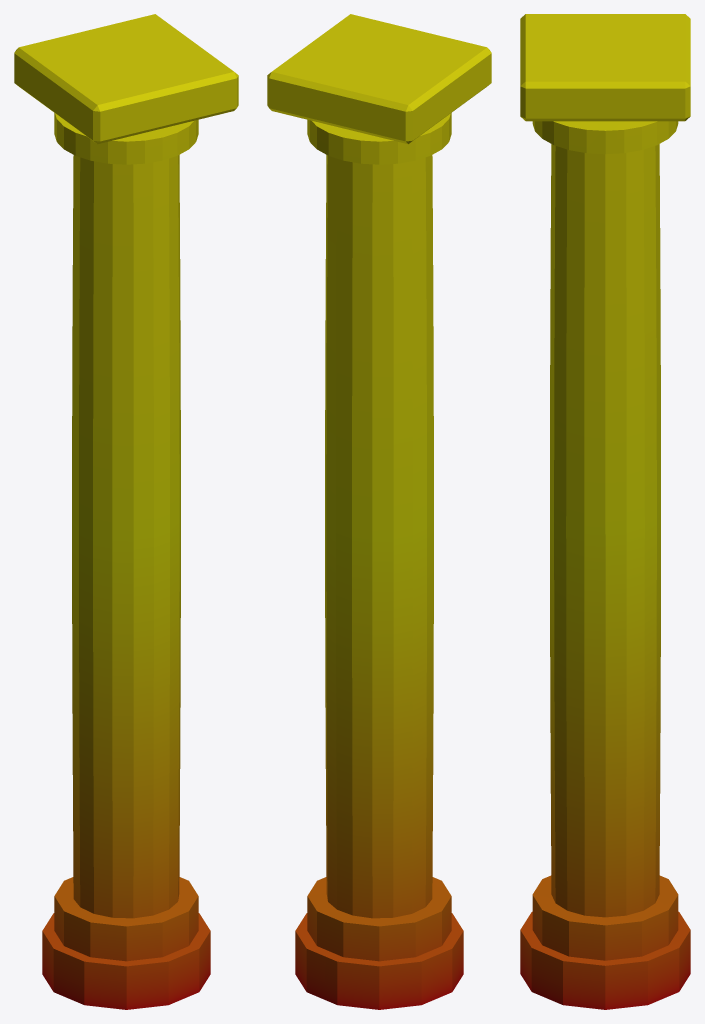
Rendered from column.glb.
3 renders of one model, left to right at view 1: azimuth 30°, elevation 25°; view 2: azimuth 150°, elevation 25°; view 3: azimuth 270°, elevation 25°, orthographic.
Parts seen in each view (by area): view 1: column; view 2: column; view 3: column.
Part boxes in pixels (x1,y1,x2,y2): column: (14, 14, 238, 1009); column: (267, 14, 491, 1009); column: (520, 14, 690, 1009).
Size of what is drawn, in the model's own units: 0.7 by 4.2 by 0.7.
